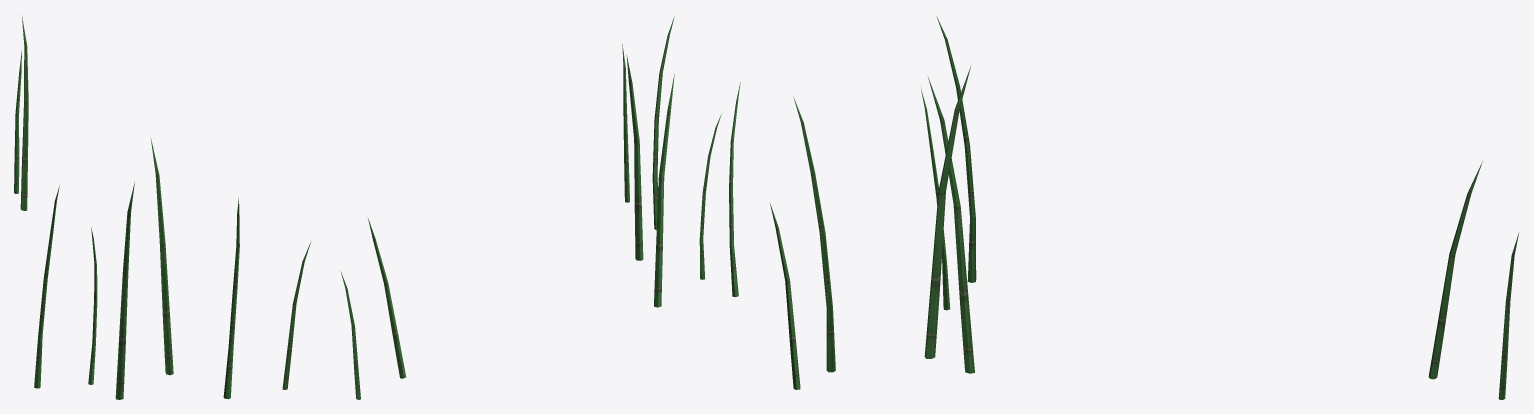
File: Area_09_26.fbx
The picture shows the model from 3 angles, left to right: view 1: azimuth 30°, elevation 25°; view 2: azimuth 150°, elevation 25°; view 3: azimuth 270°, elevation 25°; orthographic projection. The views are drawn at different scales.
Parts seen in each view (by area): view 1: Area_09_26; view 2: Area_09_26; view 3: Area_09_26.
Boxes of the visible parts, x1,y1,x2,y2 form: Area_09_26: (14,14,311,399); Area_09_26: (340,16,740,399); Area_09_26: (769,16,1519,399).
Size of the model in its own units: 1336 by 1623 by 3363.
